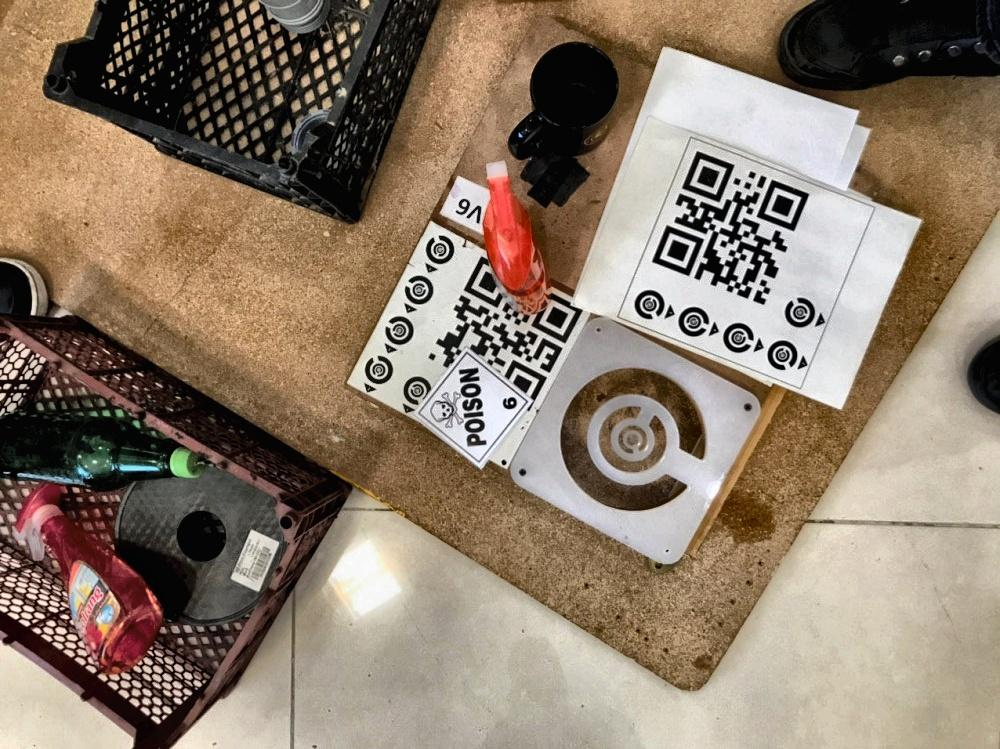poison: (415, 347, 535, 471)
